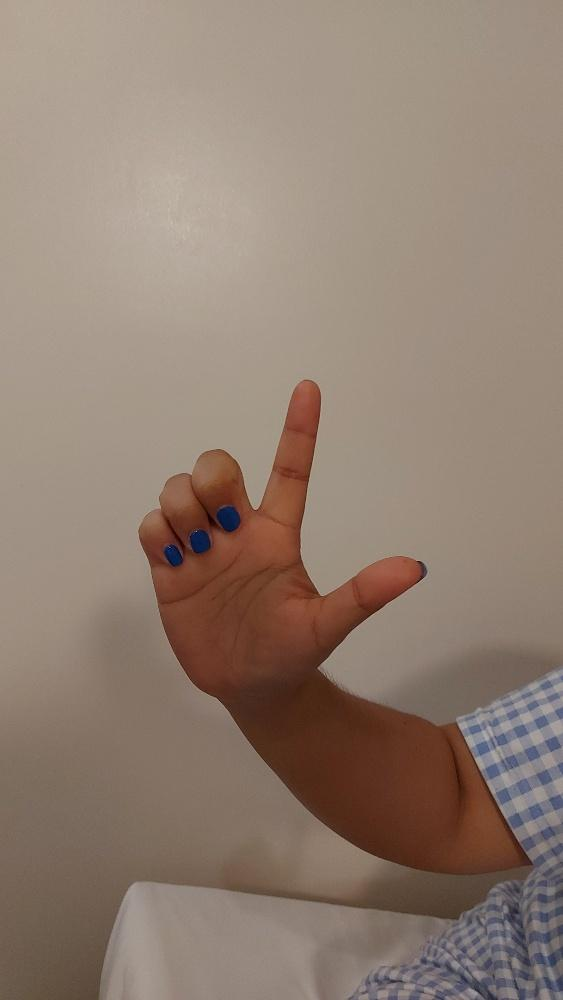l: (134, 376, 430, 699)
